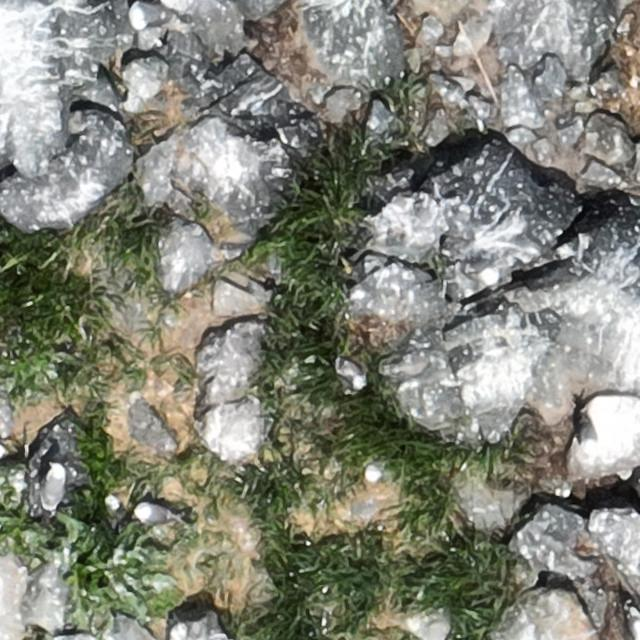umineko: (576, 412, 602, 456), (458, 260, 498, 286), (132, 4, 172, 25), (43, 468, 64, 508), (137, 504, 173, 522), (629, 611, 639, 640)
